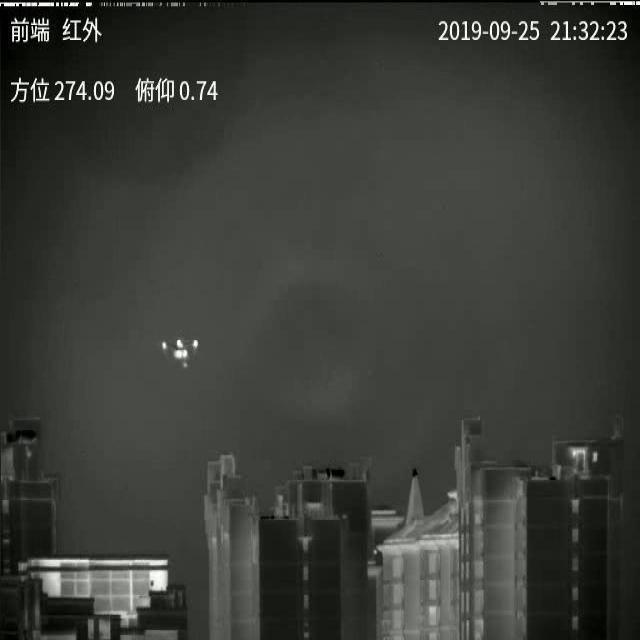drone: (161, 338, 200, 369)
